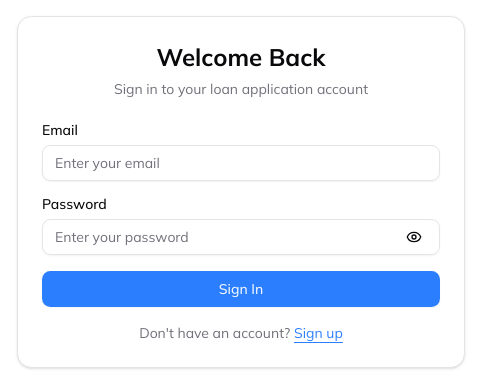
Test case: LoginPage › disables form fields and shows loading state during submission
The image size is (483, 386).
// Fill in the form
Type "test@example.com" into the field labelled "Email" at (241, 163), box [42, 145, 440, 181]
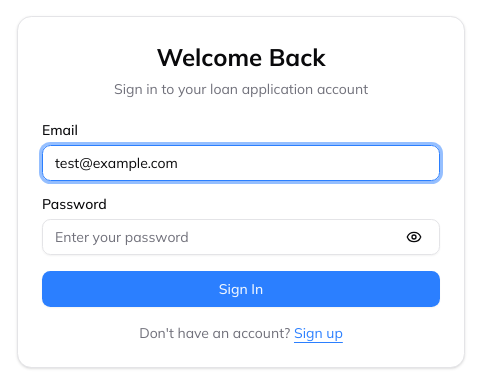
Type "password123" into the password field labelled "Password" at (241, 237), box [42, 219, 440, 255]
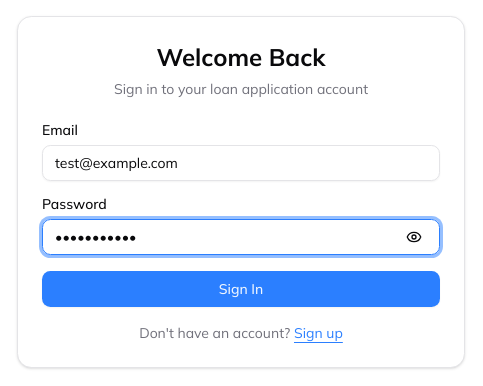
// Submit the form
Click the button "Sign In" at (241, 289), box [42, 271, 440, 307]
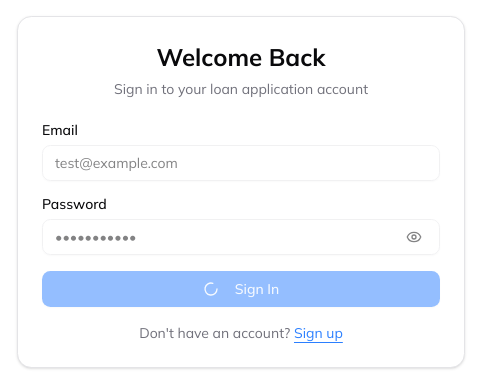
Check: the field labelled "Email" is disabled, box [42, 145, 440, 181]
Check: the password field labelled "Password" is disabled, box [42, 219, 440, 255]
